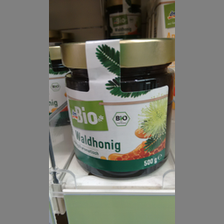honey: (58, 38, 179, 176)
